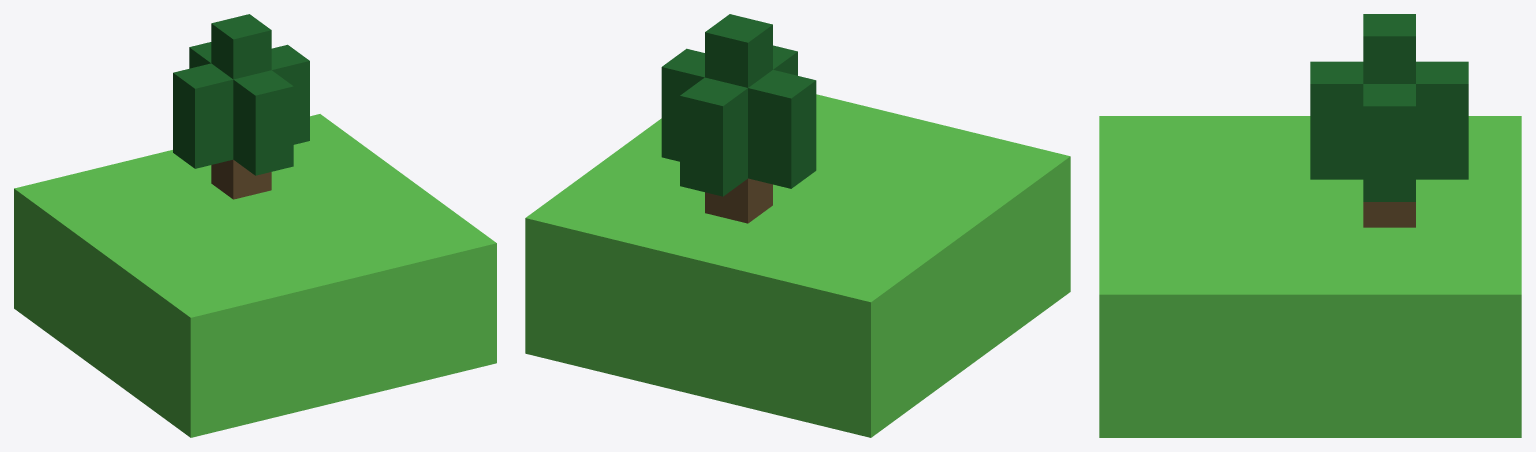
File: grass_tree.obj
3 views of the same model, side by side, from view 1: azimuth 30°, elevation 25°; view 2: azimuth 150°, elevation 25°; view 3: azimuth 270°, elevation 25° (orthographic). The views are drawn at different scales.
Size of the model in its own units: 0.8 by 0.7 by 0.8.
Materials: 1 (1 with a texture image).
